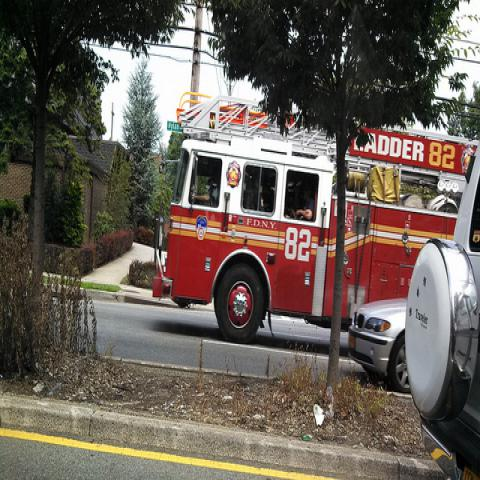car: (404, 136, 480, 476), (349, 295, 411, 393)
truck: (152, 95, 480, 345)
